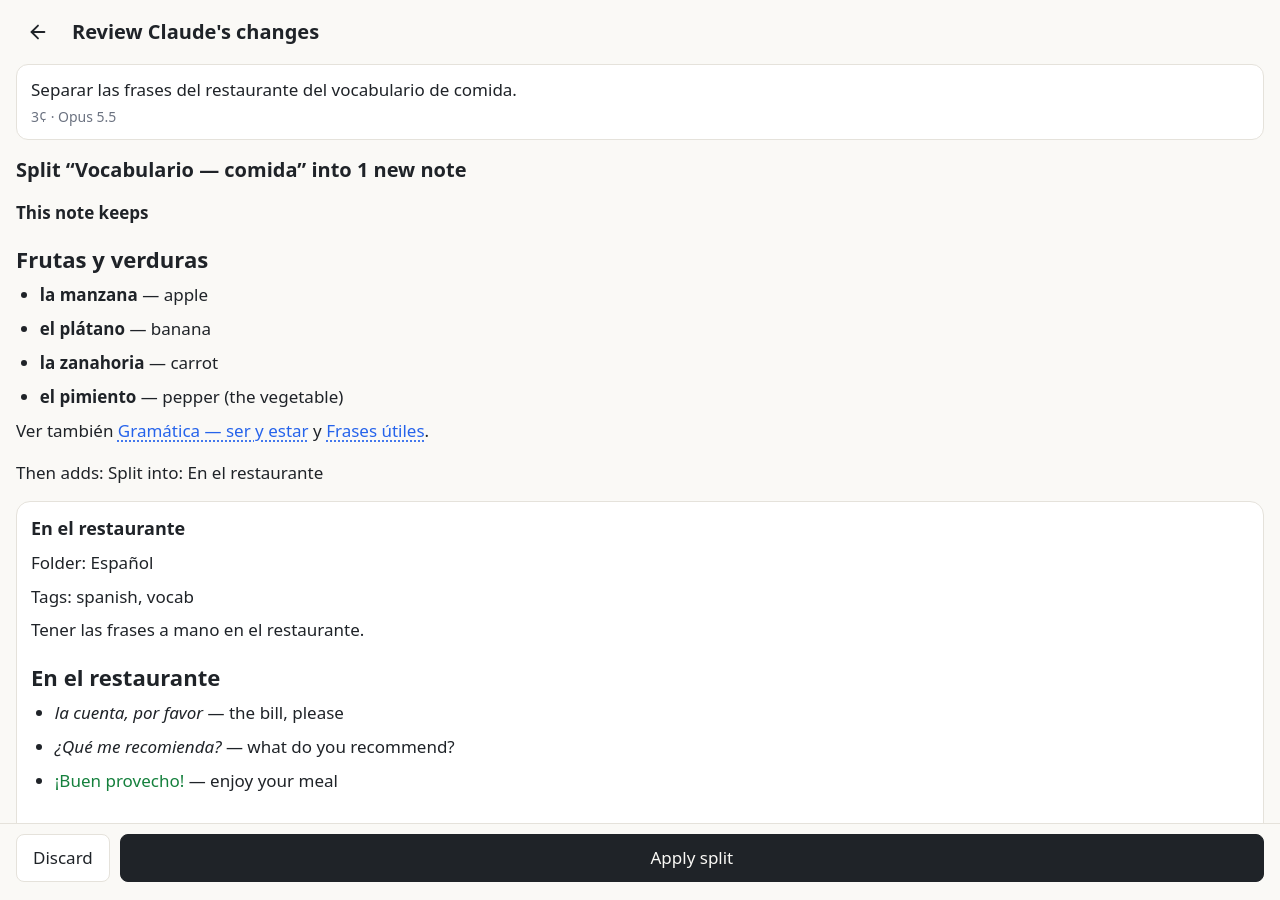
a later edit of a created note offers keeping it and copying the original
The width and height of the screenshot is (1280, 900).
Click the button "Apply split" at (692, 858), box [120,834,1264,882]
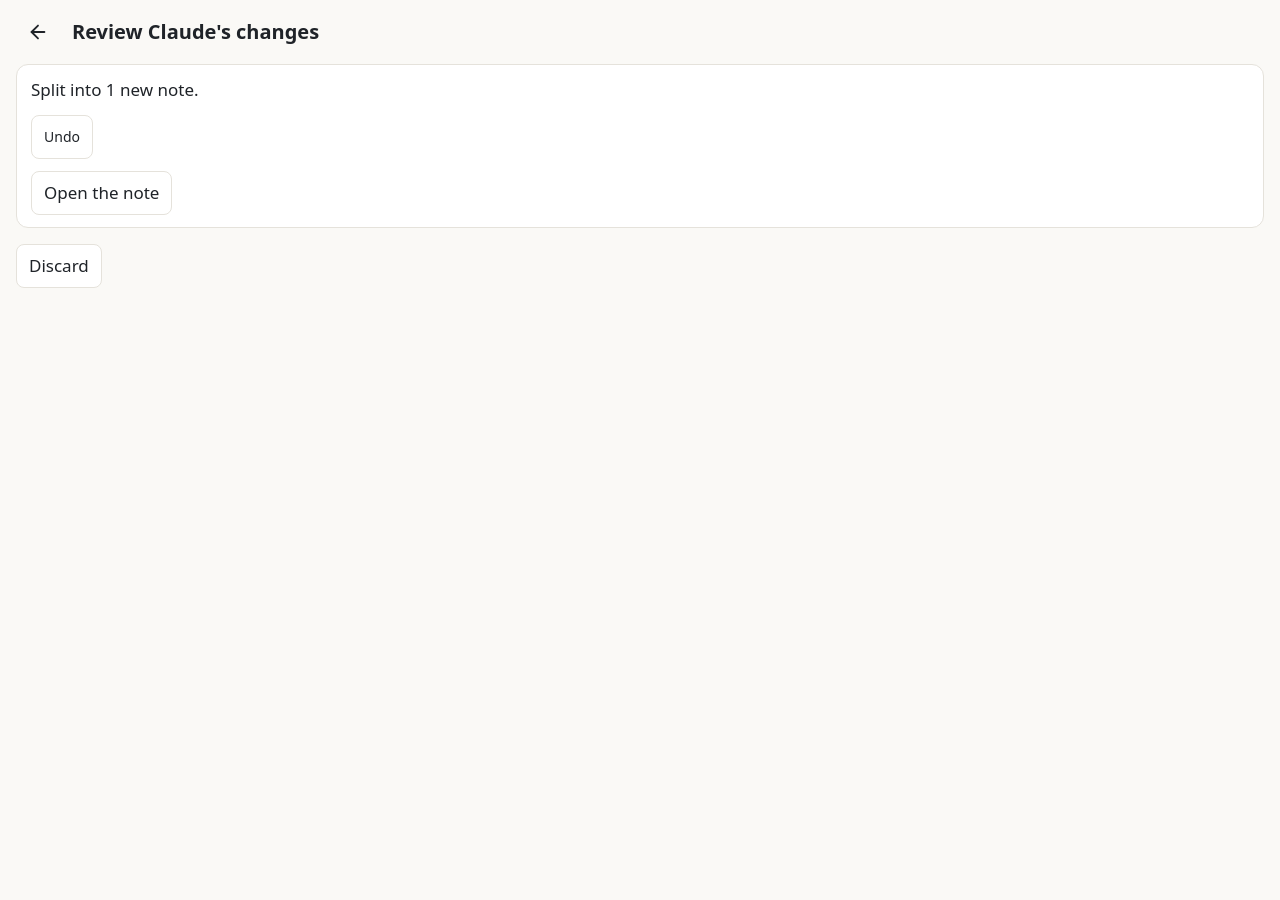
Now the text "Split into 1 new note." is shown, box [31,78,199,101]
Click the button "Undo" at (62, 136), box [31,114,93,158]
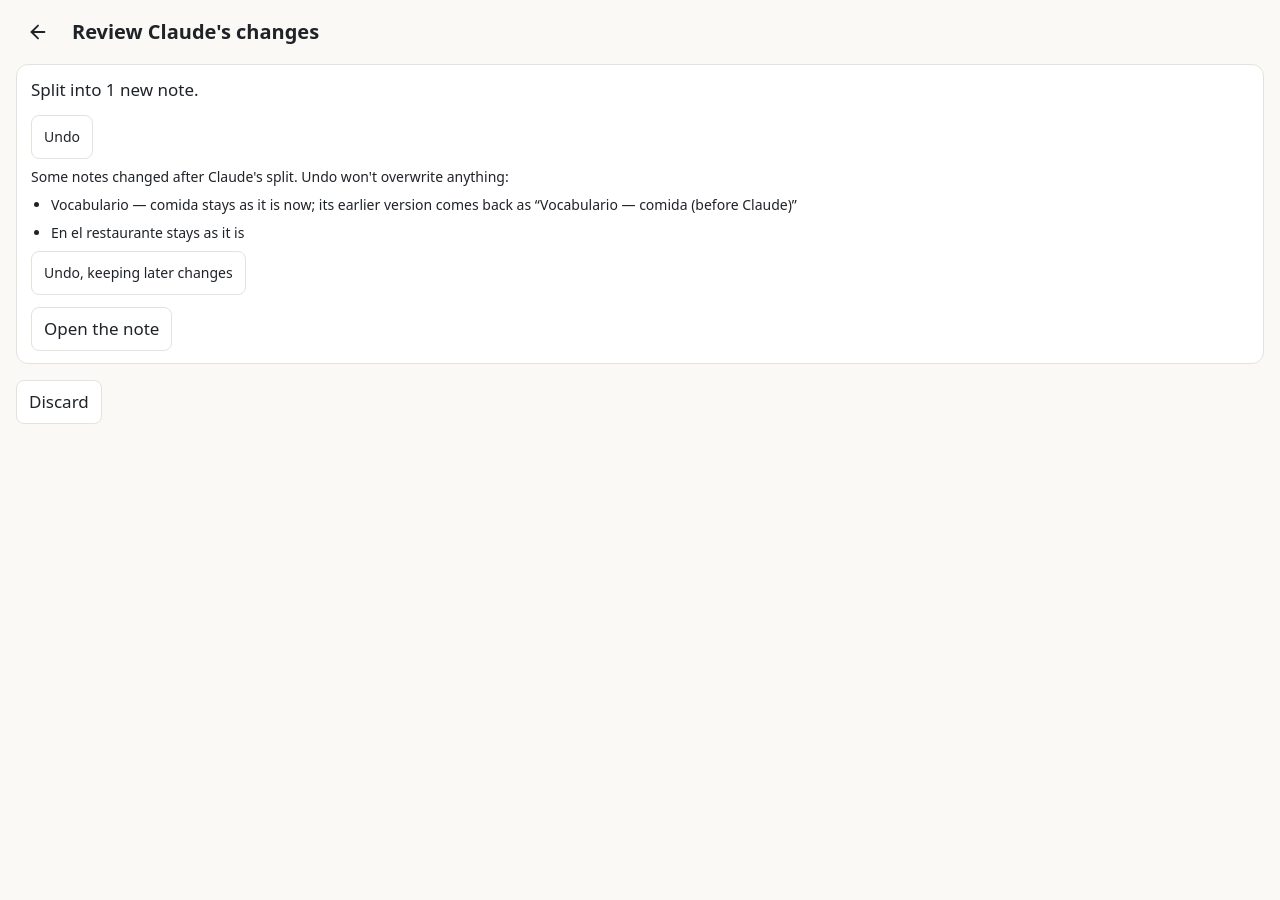
Now the list item "En el restaurante stays as it is" is shown, box [51,222,244,242]
Click the button "Undo, keeping later changes" at (138, 272), box [31,250,246,294]
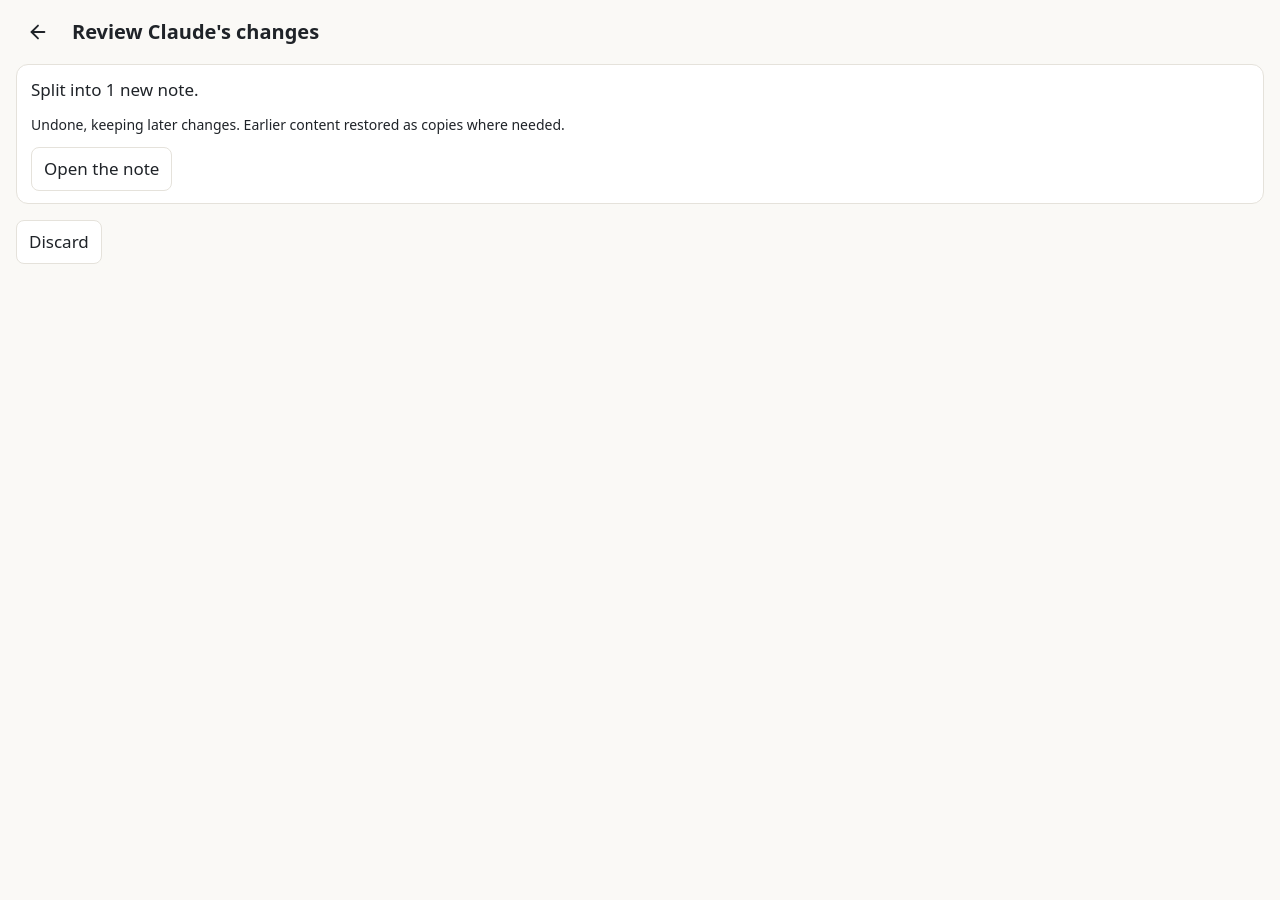
Now the text "Undone, keeping later changes. Earlier content restored as copies where needed." is shown, box [31,114,565,134]
